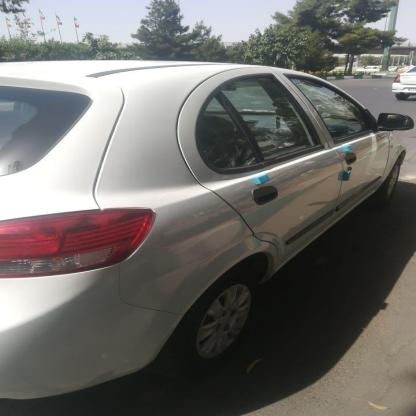Car: (0, 63, 403, 379)
